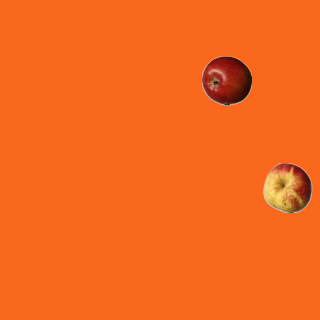Apple Braeburn: (201, 55, 251, 105)
Apple Red Yellow 1: (262, 162, 312, 212)
